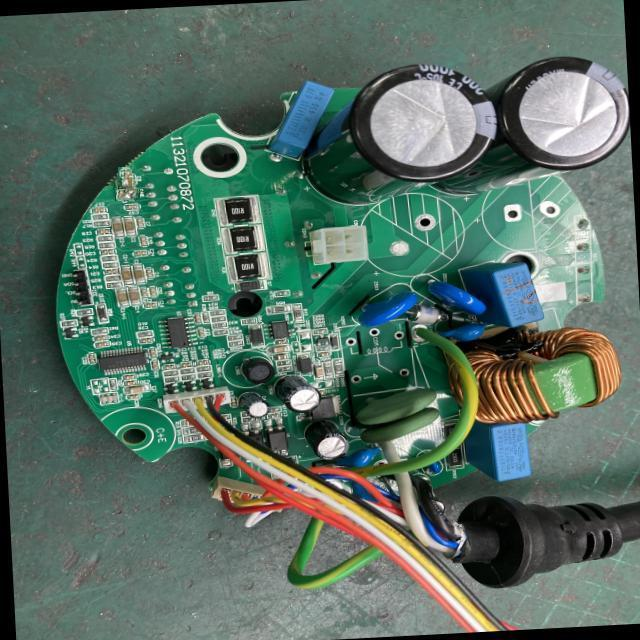damged: (115, 170, 135, 190), (115, 188, 140, 201)
